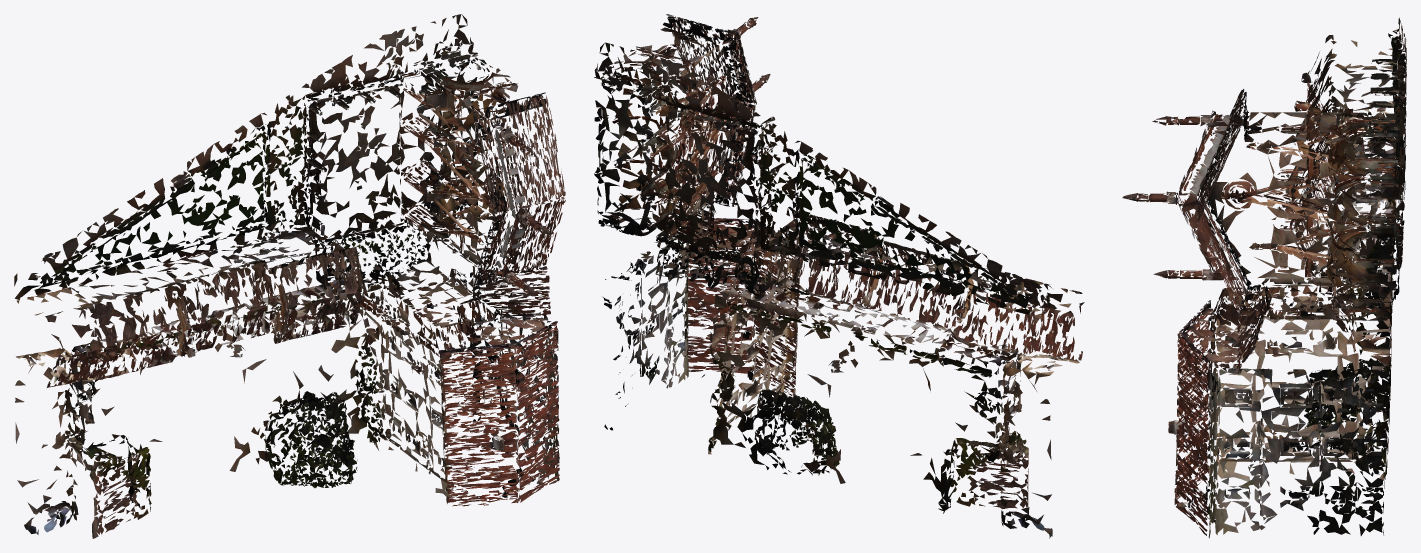
3 renders of one model, left to right at view 1: azimuth 30°, elevation 25°; view 2: azimuth 150°, elevation 25°; view 3: azimuth 270°, elevation 25°, orthographic. The views are drawn at different scales.
Size of the model in its own units: 49.98 by 41.74 by 24.16.
Materials: 1 (1 with a texture image).
